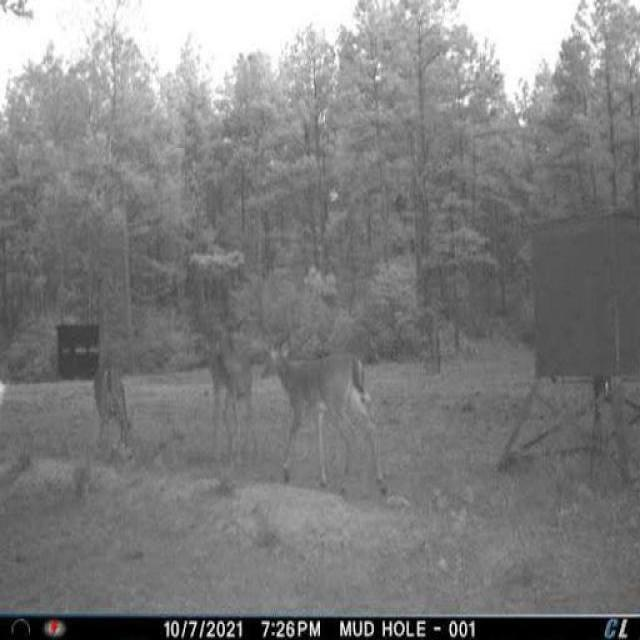deer: (258, 336, 394, 492), (198, 327, 262, 482), (86, 354, 146, 482)
